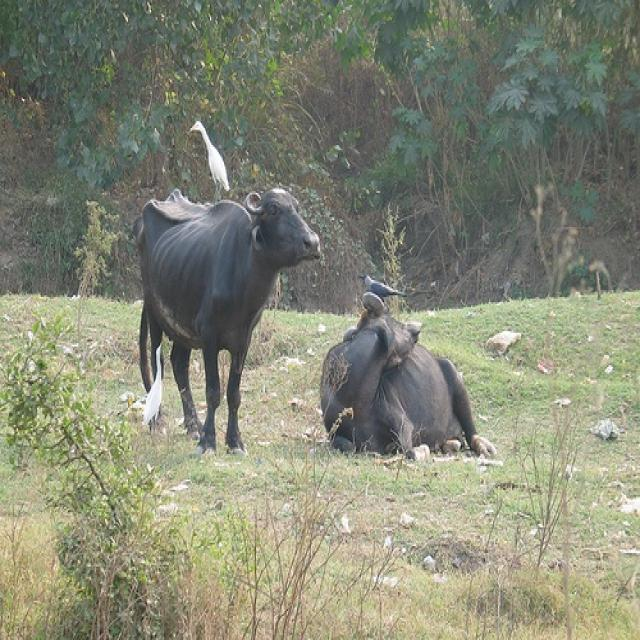bird: (186, 118, 230, 201), (141, 342, 166, 436), (354, 272, 404, 306)
cow: (136, 186, 322, 456), (322, 288, 496, 474)
